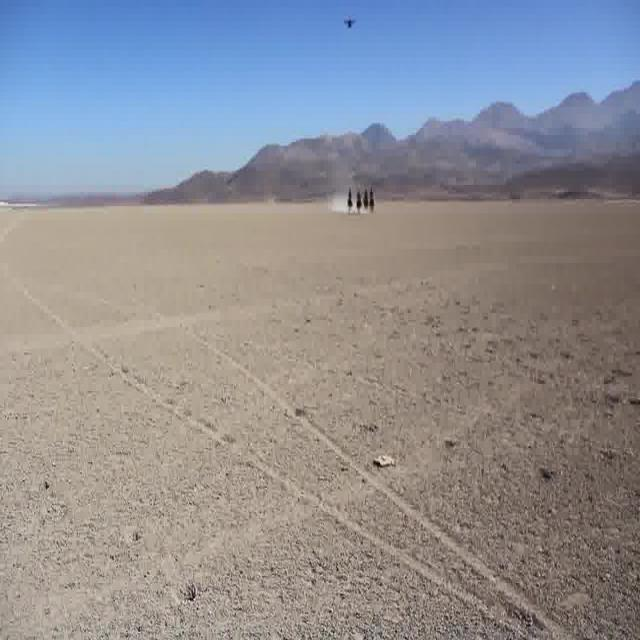drones: (340, 11, 360, 37)
